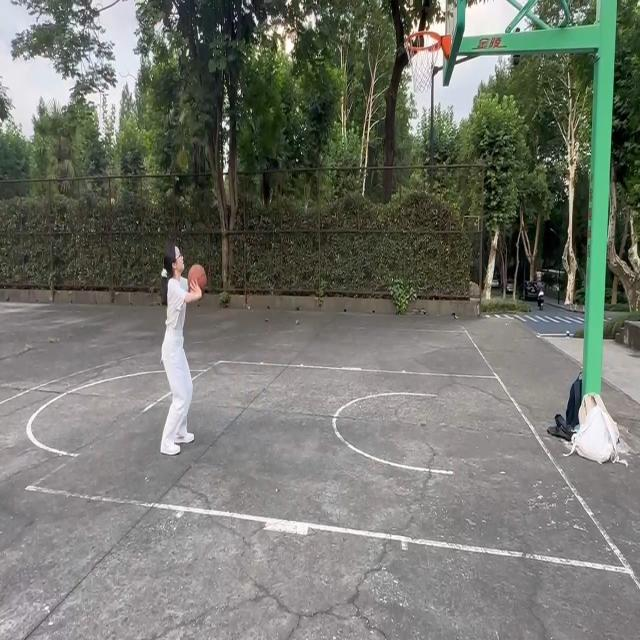basketball: (406, 34, 447, 100)
rim: (188, 265, 205, 293)
